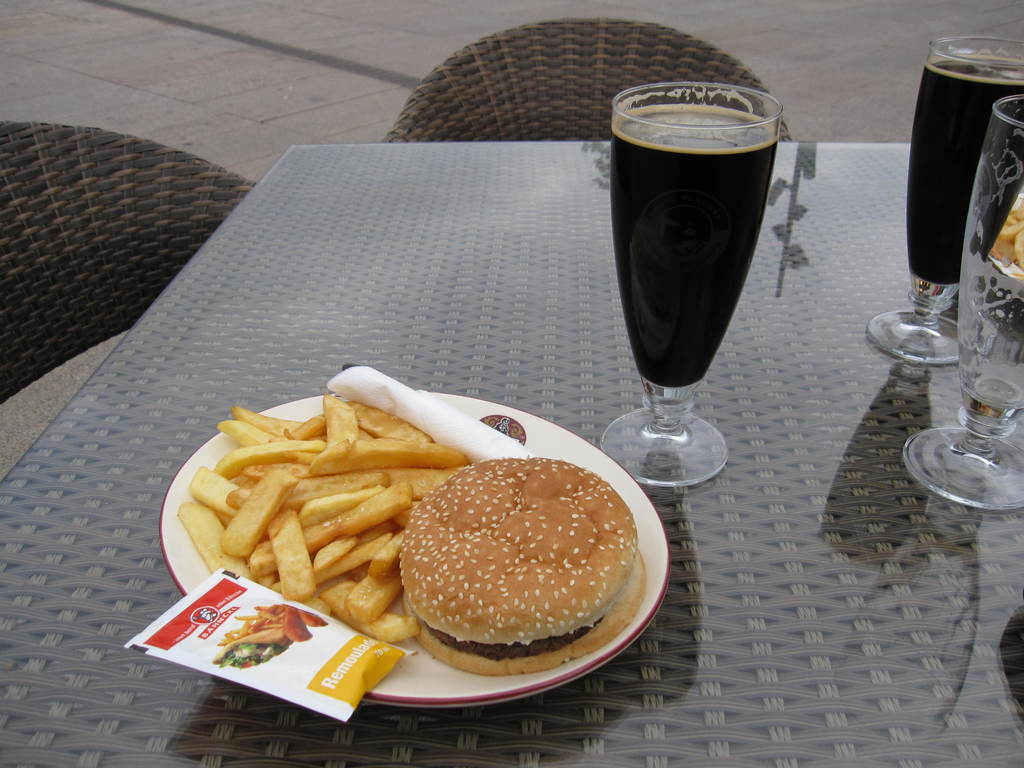French fries: (224, 394, 447, 659)
